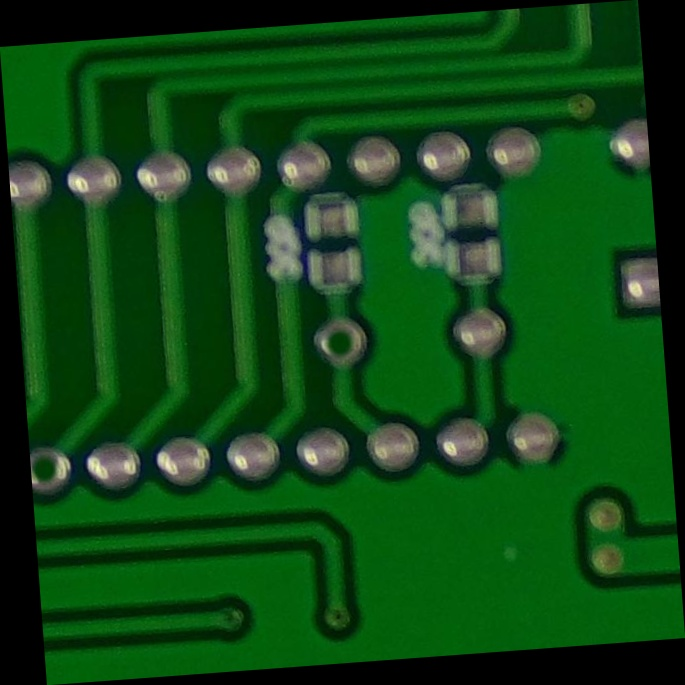missing_hole: (310, 311, 375, 375)
